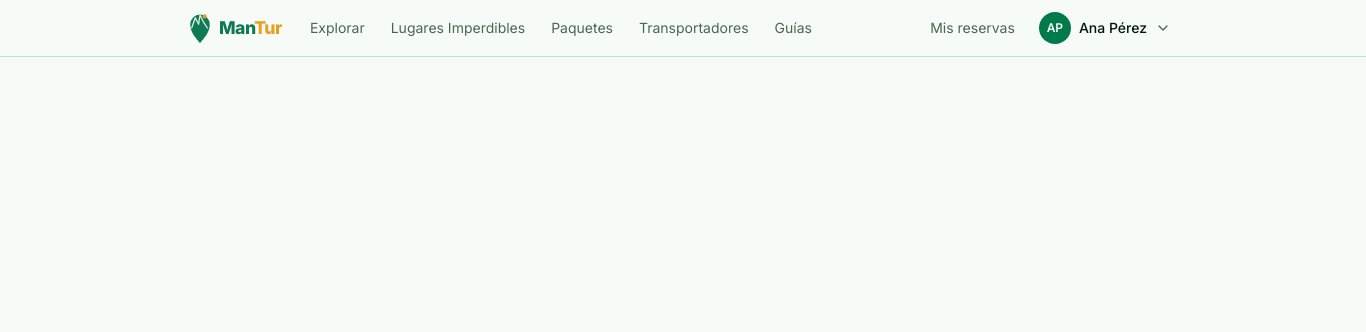
Test case: PublicNav — tourist › shows Mis reservas inline, and Mi perfil + Mis traslados + Únete + Cerrar sesión inside the avatar menu
Expected: the menu item "Mi perfil" is not shown
Expected: the menu item "Mis traslados" is not shown
Click the button "AP Ana Pérez" at (1105, 28), box [1031,6,1179,50]
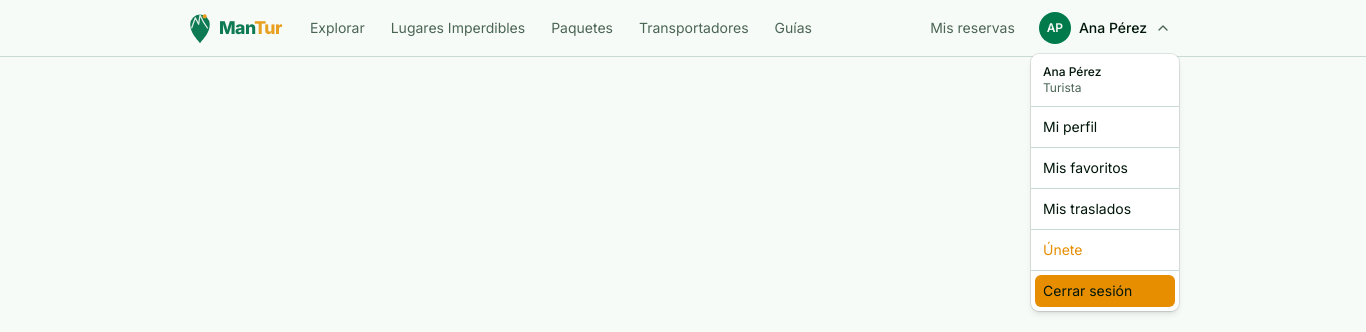
Expected: the button "Cerrar sesión" is shown, [1043,281,1167,301]
